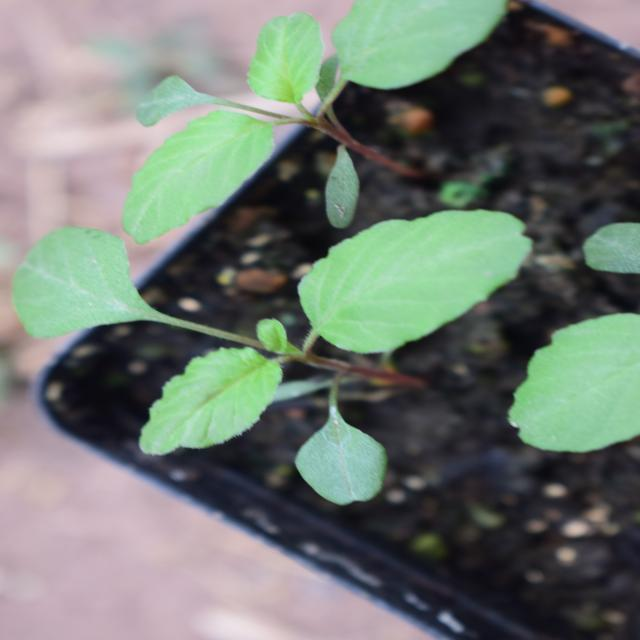pigweed: (177, 24, 451, 528), (463, 101, 640, 528)
